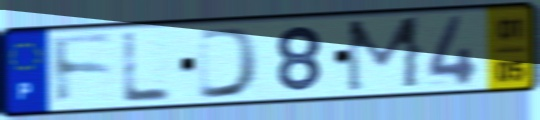4: (424, 13, 481, 88)
8: (274, 23, 326, 95)
D: (196, 24, 264, 101)
F: (49, 32, 119, 109)
L: (119, 29, 175, 105)
M: (343, 14, 426, 96)
